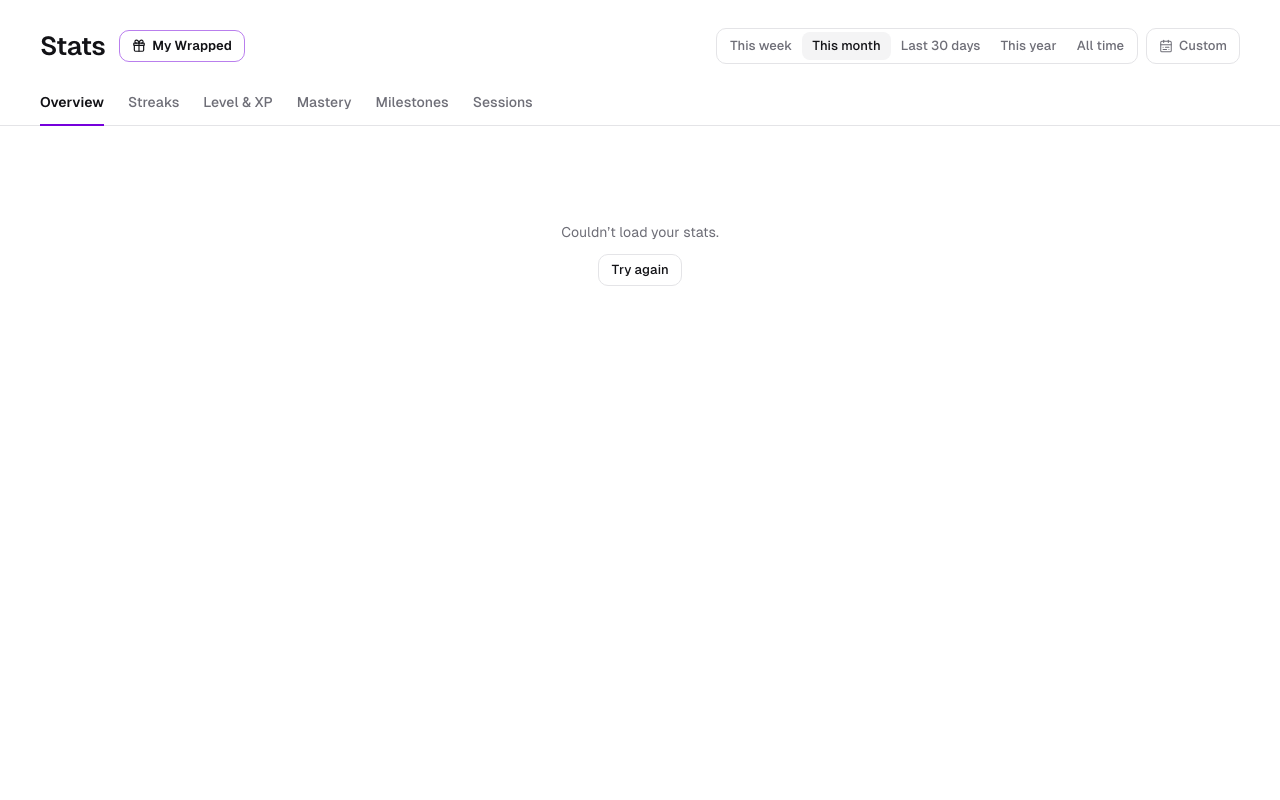
Test case: v1 Stats page › says so when stats fail to load, and retries
The width and height of the screenshot is (1280, 800).
Expected: the element with test id "stats-error" is shown, [561,224,719,286]
Click the button "Try again". click: (640, 270)
box: [598,254,682,286]
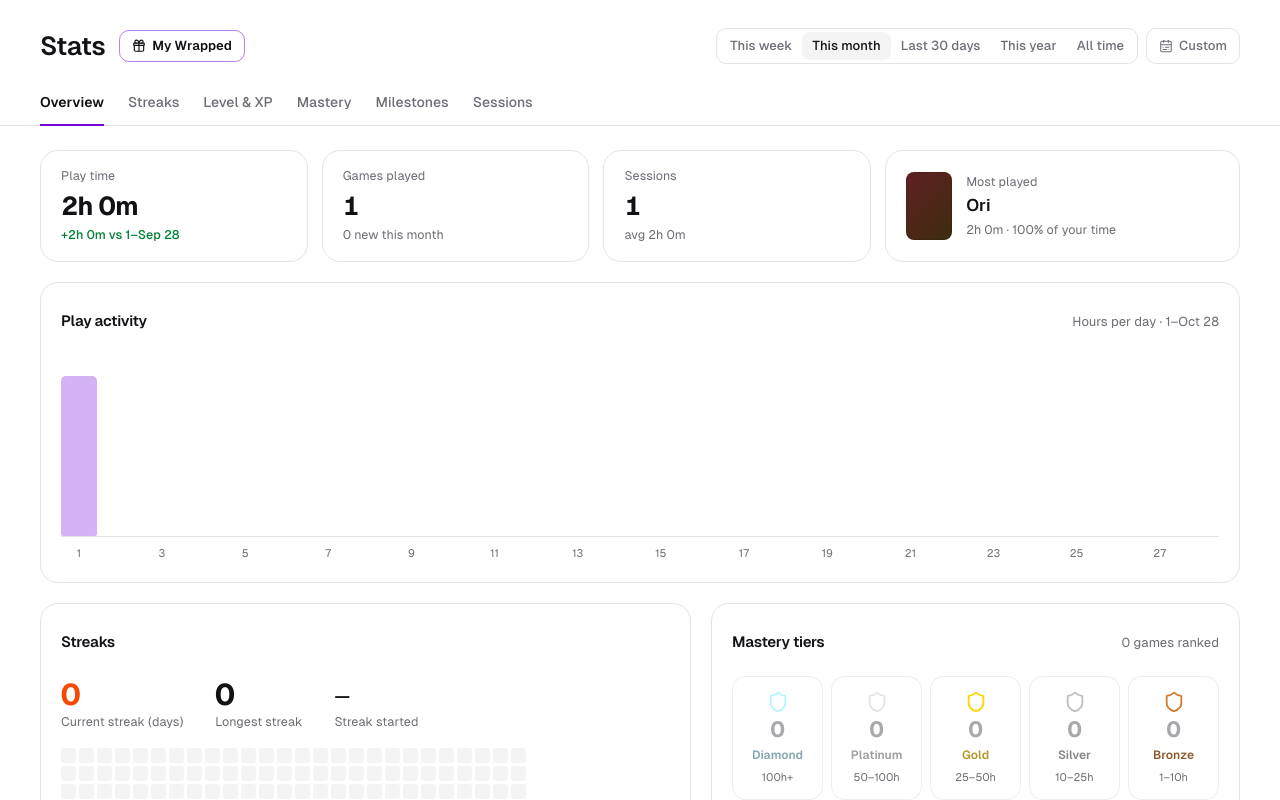
Expected: the element with test id "stats-summary" is shown, [40,150,1240,262]
